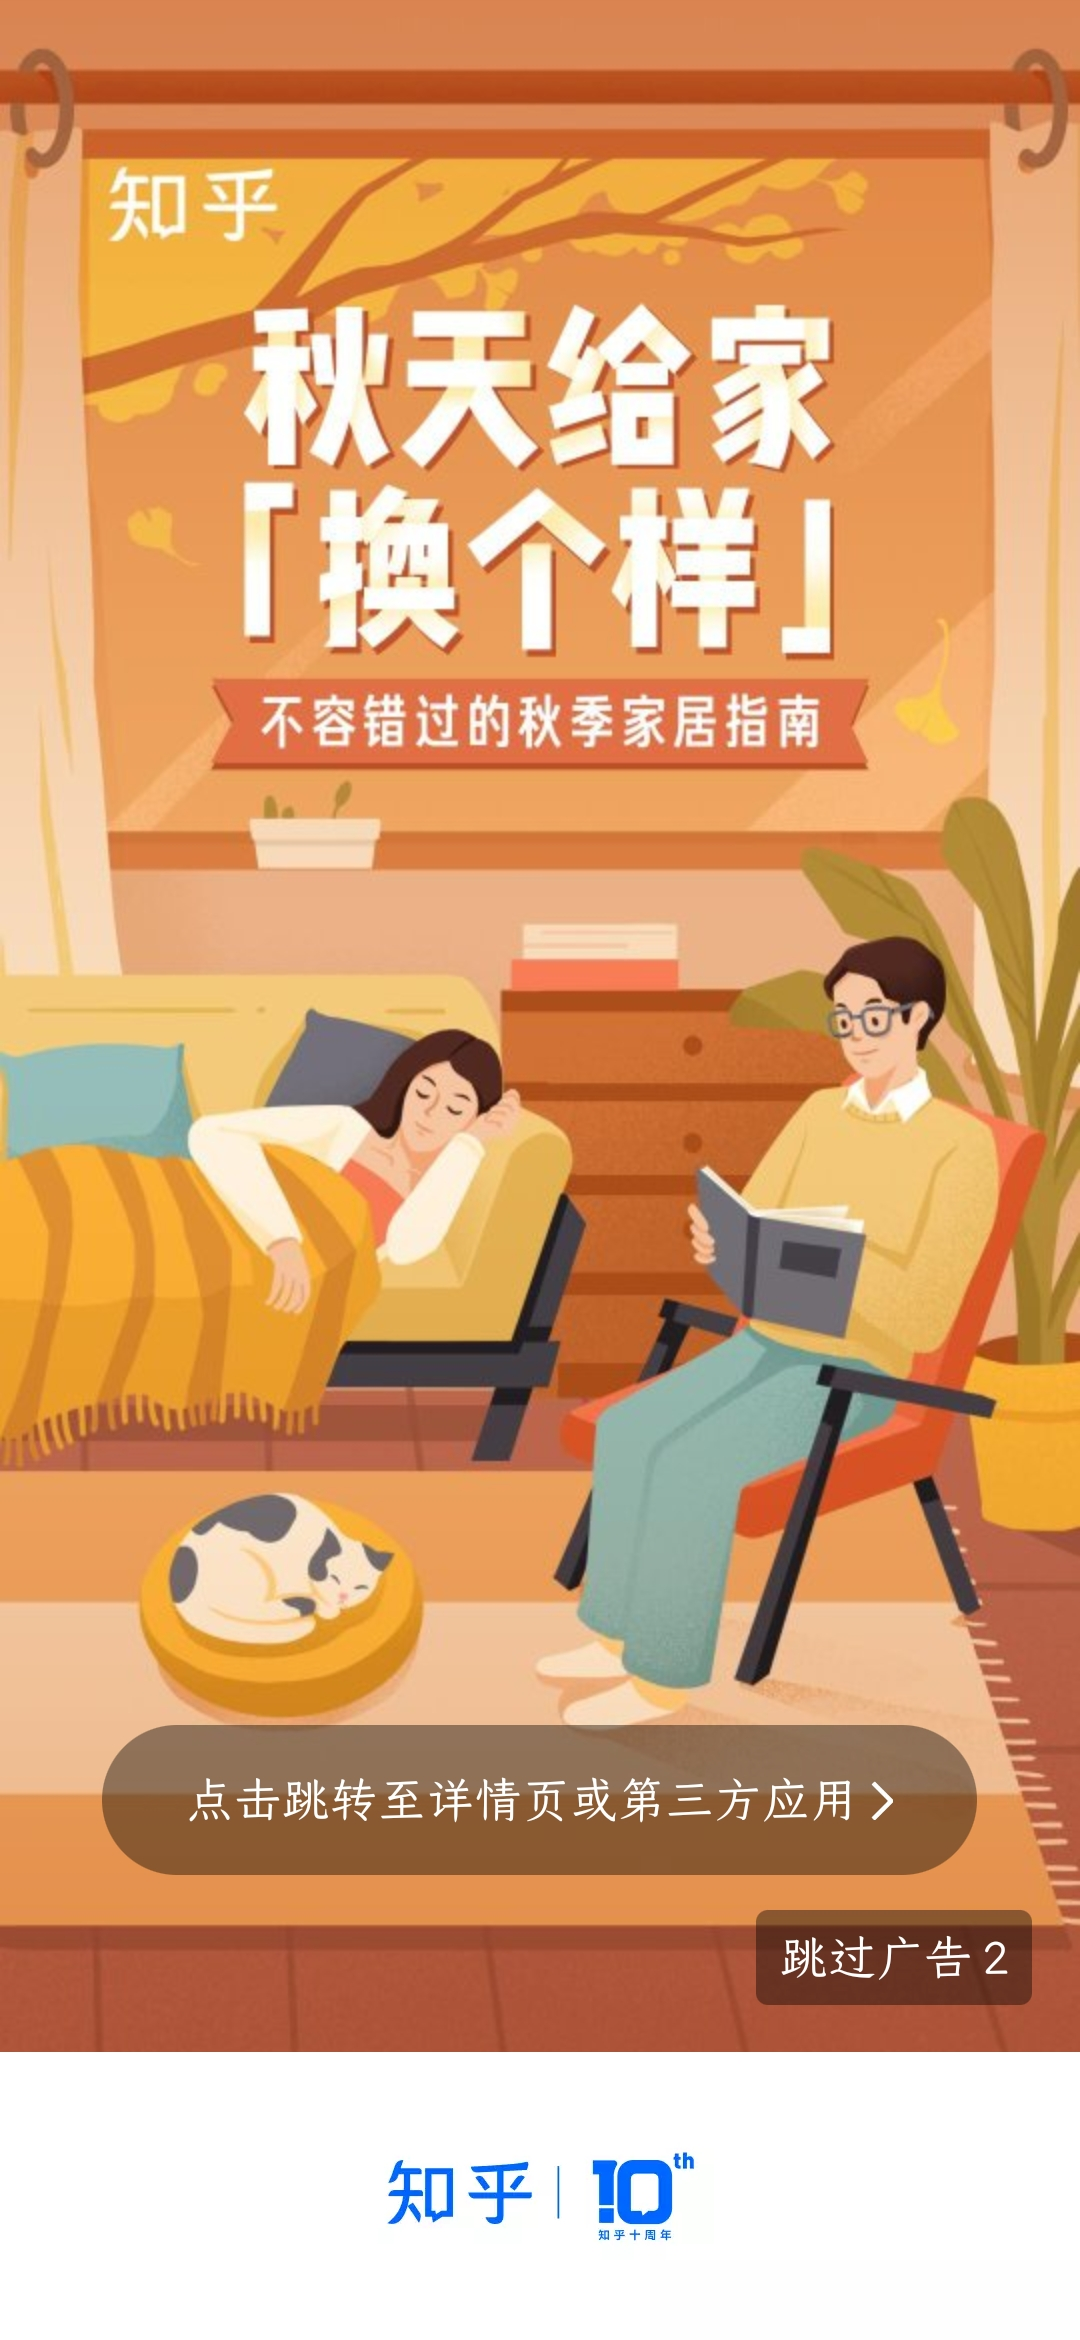skip: (759, 1906, 1023, 1998)
